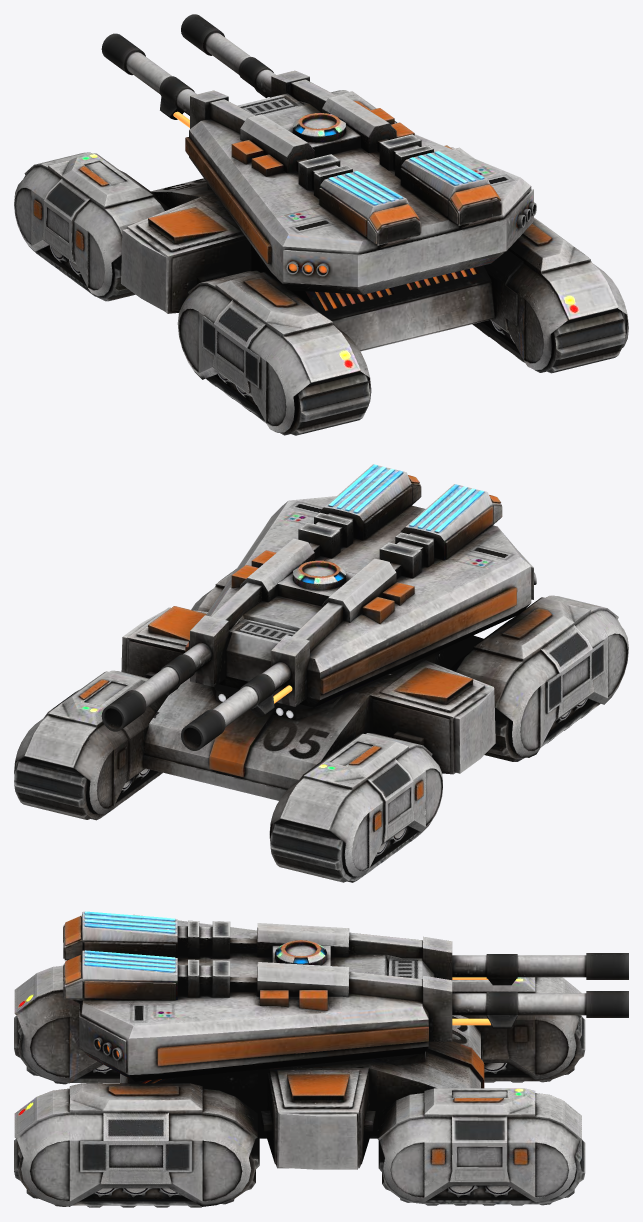
File: SUP_mammoth_tank_mk_ii.glb
The picture shows the model from 3 angles, top to bottom: view 1: azimuth 30°, elevation 25°; view 2: azimuth 150°, elevation 25°; view 3: azimuth 270°, elevation 25°; orthographic projection.
Visible parts, largest first — view 1: SUP_mammoth_tank_mk_ii; view 2: SUP_mammoth_tank_mk_ii; view 3: SUP_mammoth_tank_mk_ii.
Part boxes in pixels (x1,y1,x2,y2): SUP_mammoth_tank_mk_ii: [14, 14, 628, 435]; SUP_mammoth_tank_mk_ii: [14, 464, 628, 882]; SUP_mammoth_tank_mk_ii: [14, 911, 628, 1207].
Bounding box in the file's own units: 21.99 × 11.93 × 34.43.
Materials: 1 (1 with a texture image).
